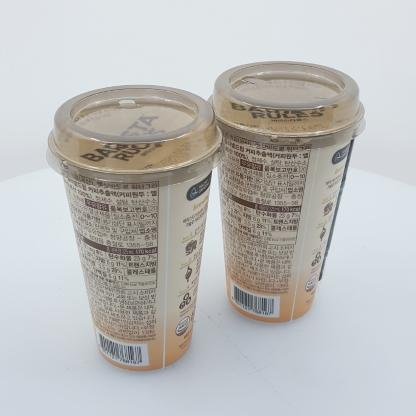------------------325ML: (46, 84, 226, 373), (204, 60, 366, 323)
